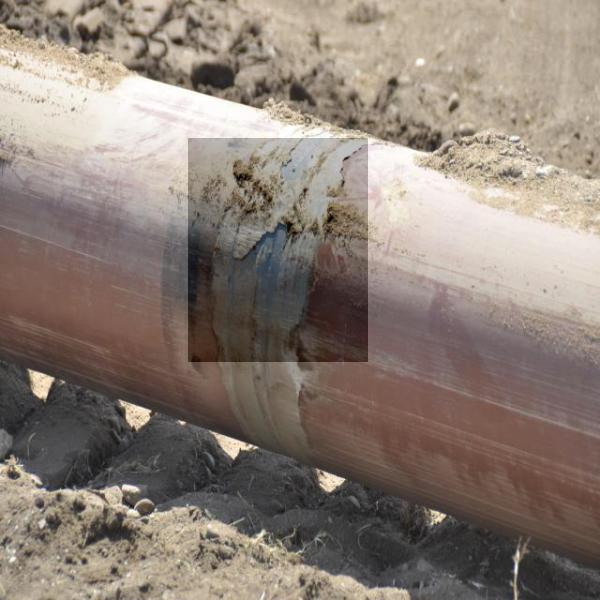no leak: (188, 138, 368, 362)
